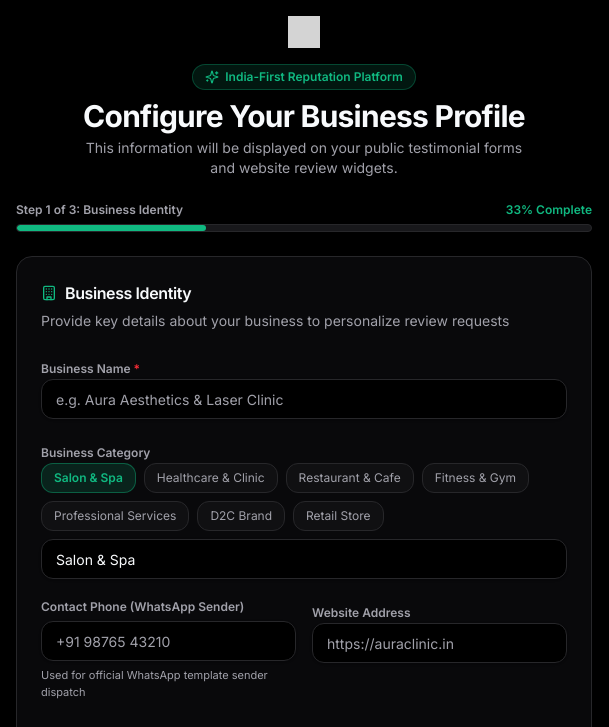
it: OnboardingPage Integration Tests › allows category selection via presets and updates the form
This screenshot has width=609, height=727.
What coordinates should you click on to do the following:
click the button "Healthcare & Clinic"
I would click on:
 (211, 478)
Its box is 144,463 -> 278,493.
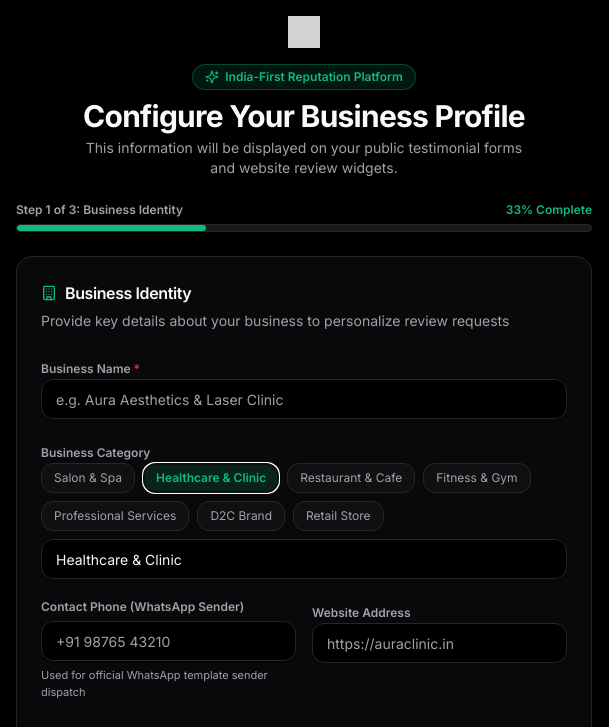
Expected: the field with placeholder "Or enter custom category" holds "Healthcare & Clinic", 41,539 -> 567,579
